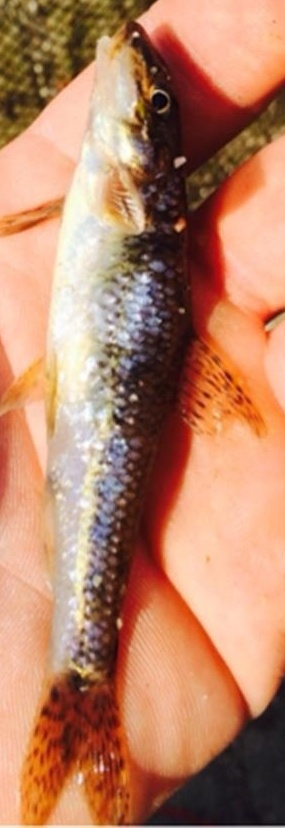Gobio gobio: (20, 20, 265, 828)
